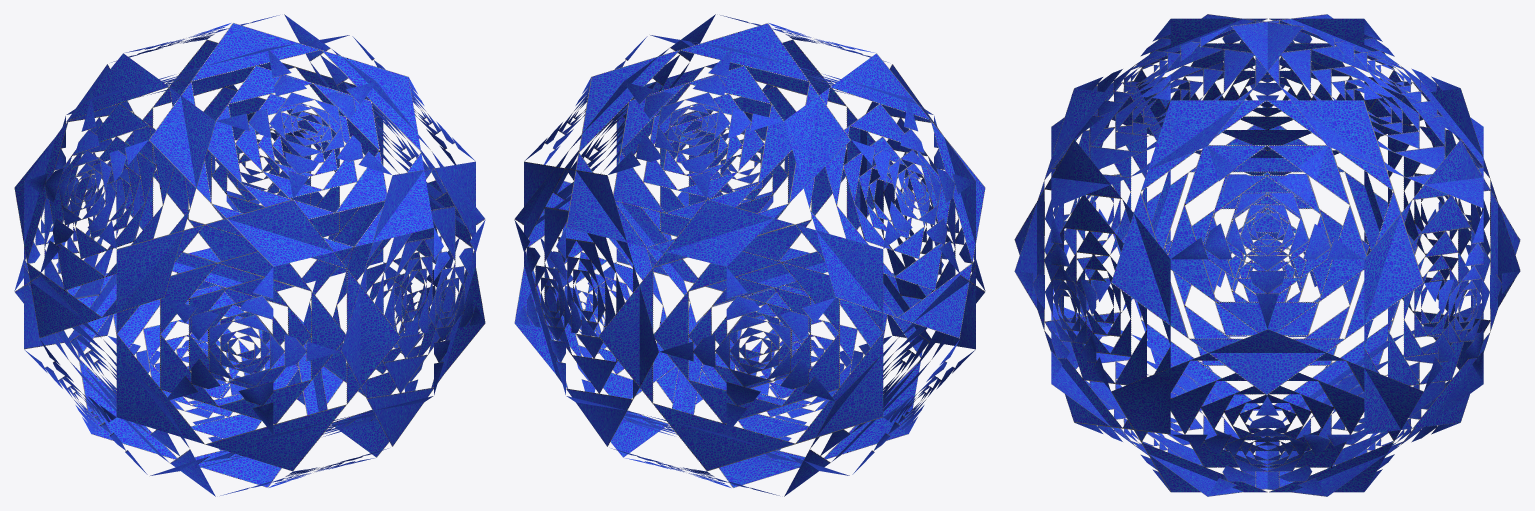
File: Icosidodecadodecahedron14.gltf
3 views of the same model, side by side, from view 1: azimuth 30°, elevation 25°; view 2: azimuth 150°, elevation 25°; view 3: azimuth 270°, elevation 25° (orthographic). The views are drawn at different scales.
Visible parts, largest first — view 1: Icosidodecadodecahedron14; view 2: Icosidodecadodecahedron14; view 3: Icosidodecadodecahedron14.
Boxes of the visible parts, x1,y1,x2,y2 form: Icosidodecadodecahedron14: [14, 14, 485, 496]; Icosidodecadodecahedron14: [514, 14, 985, 496]; Icosidodecadodecahedron14: [1014, 14, 1520, 496].
Bounding box in the file's own units: 2.62 × 2.62 × 2.62.
Materials: 1 (1 with a texture image).
